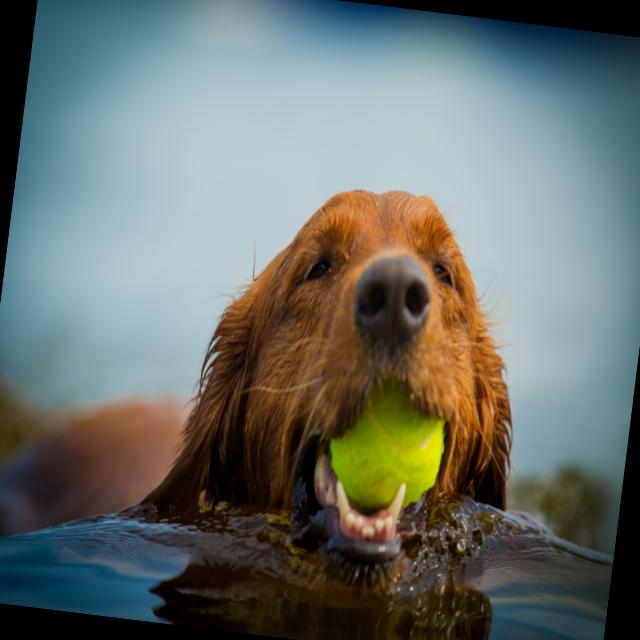Tennis Ball: (319, 371, 452, 520)
